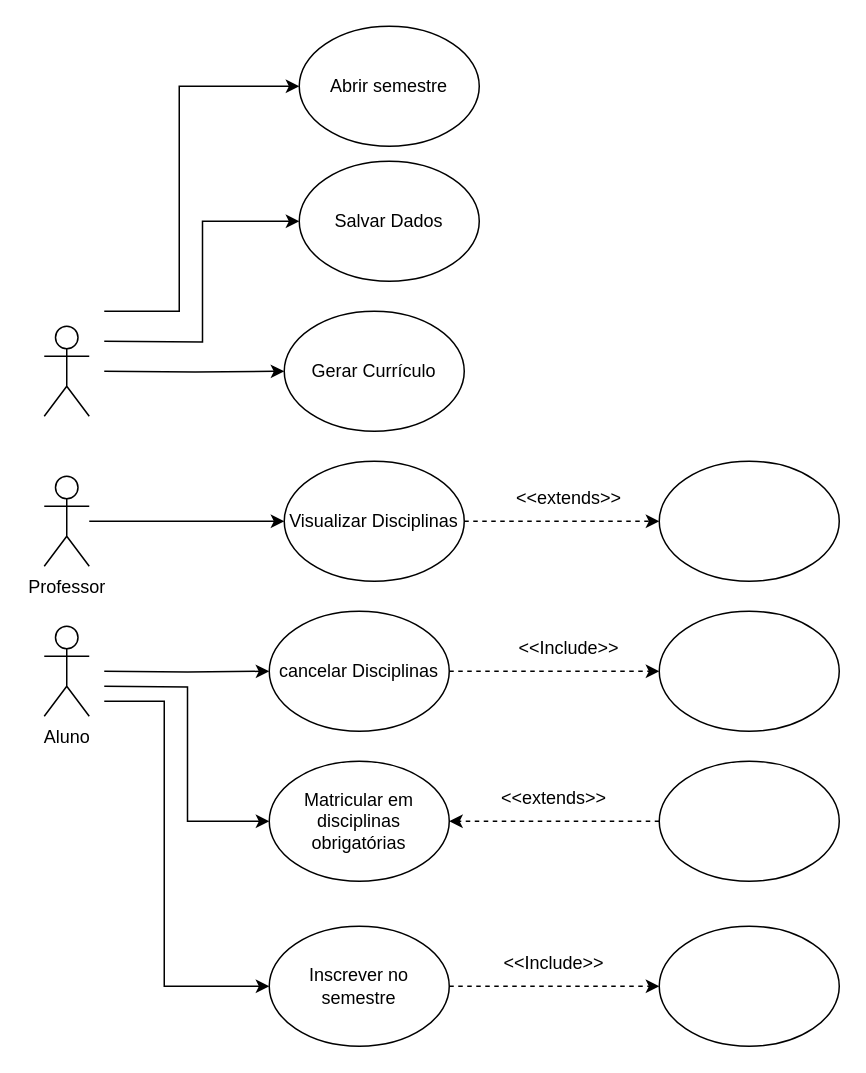
This 866x1073 diagram has some shape labels left out. Here are the shapes that lost their labels. From the top down, the centre of each, then its label:
point (66, 370): Secretária
point (748, 520): Visualizar Alunos
point (748, 670): Estar cadastrado no semestre
point (748, 820): Matricular em disciplinas optativas
point (748, 985): Disparar Cobranças
